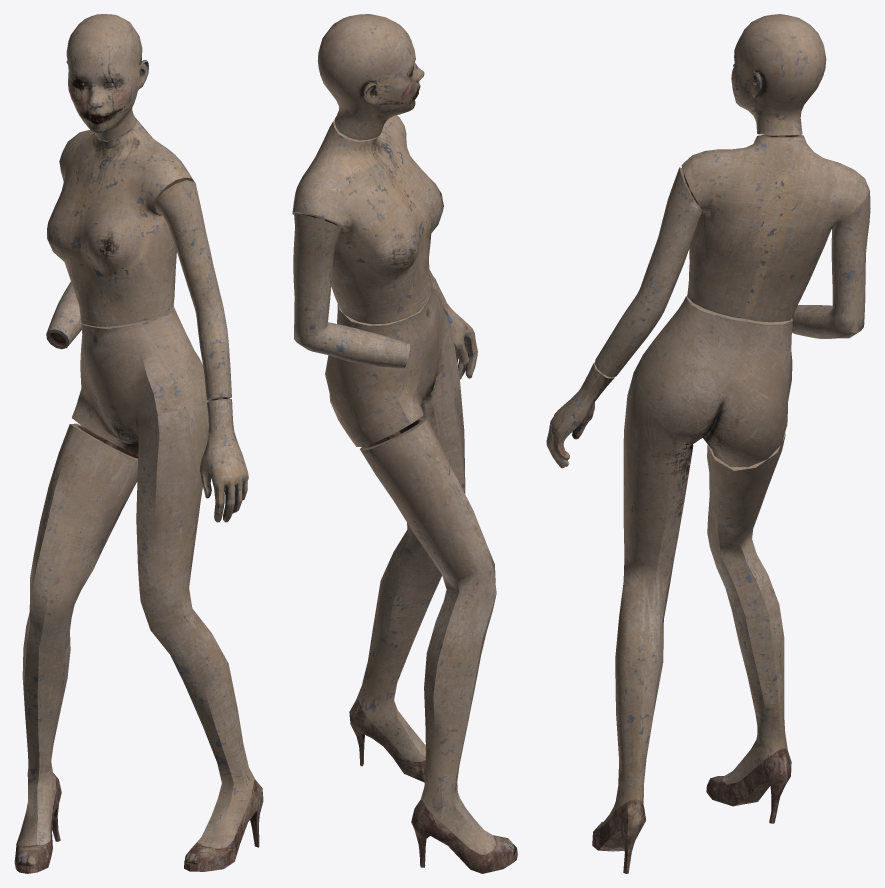
The model's file is Woman_1.fbx.
3 views of the same model, side by side, from view 1: azimuth 30°, elevation 25°; view 2: azimuth 150°, elevation 25°; view 3: azimuth 270°, elevation 25° (orthographic). The views are drawn at different scales.
Parts seen in each view (by area): view 1: Object_2.004, Object_2.010, Object_2.011; view 2: Object_2.004, Object_2.011, Object_2.010; view 3: Object_2.004, Object_2.010, Object_2.011.
Boxes of the visible parts, x1,y1,x2,y2 form: Object_2.004: (14,14,263,873); Object_2.010: (154,180,248,522); Object_2.011: (46,171,81,344); Object_2.004: (292,14,517,873); Object_2.011: (293,213,410,368); Object_2.010: (429,269,477,379); Object_2.004: (553,14,869,873); Object_2.010: (546,167,702,468); Object_2.011: (792,191,870,338).
Size of the model in its own units: 64.56 by 250 by 88.01.
Materials: 1 (1 with a texture image).
